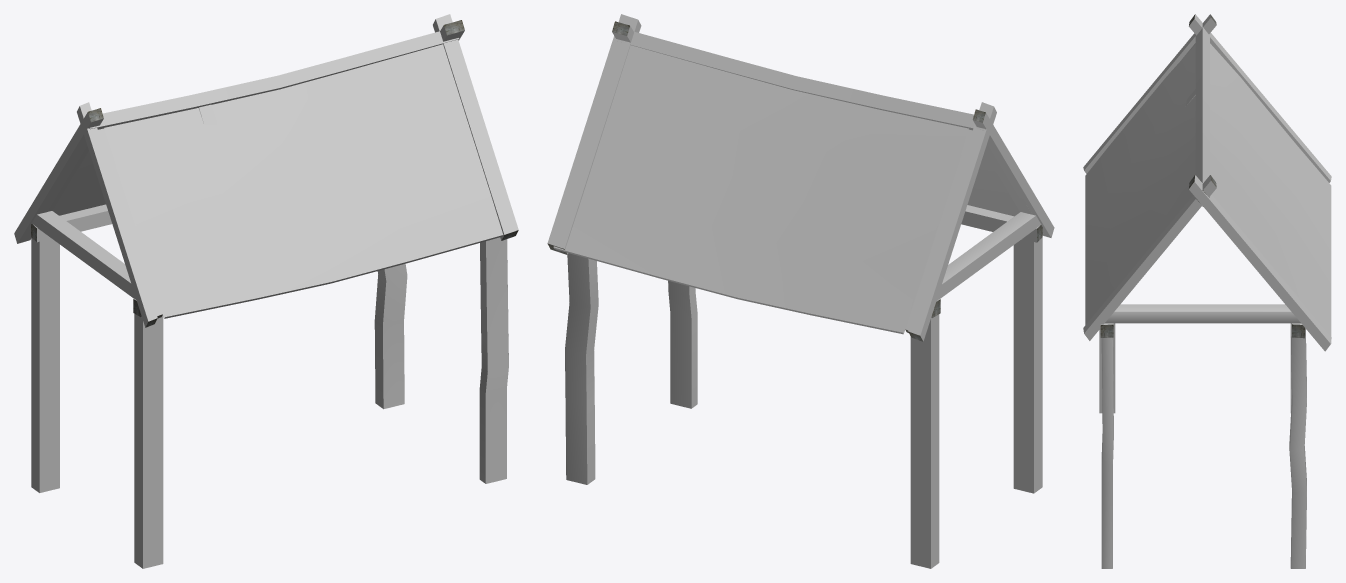
The model's file is v-roof.fbx.
3 views of the same model, side by side, from view 1: azimuth 30°, elevation 25°; view 2: azimuth 150°, elevation 25°; view 3: azimuth 270°, elevation 25° (orthographic). The views are drawn at different scales.
Visible parts, largest first — view 1: Mesh; view 2: Mesh; view 3: Mesh.
Part boxes in pixels (box(x1,y1,x2,y2)): Mesh: box(14, 14, 518, 568); Mesh: box(547, 14, 1054, 568); Mesh: box(1083, 14, 1331, 568).
Size of the model in its own units: 436 by 470 by 272.
